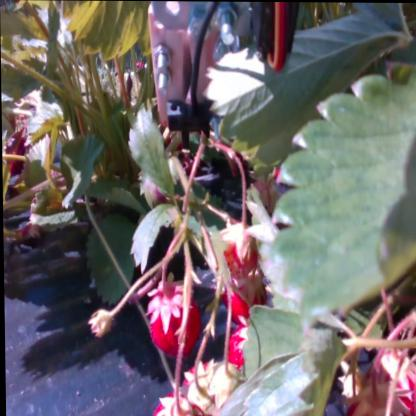ripe: (145, 291, 200, 351), (224, 272, 266, 317), (228, 320, 256, 365), (224, 238, 258, 273)
